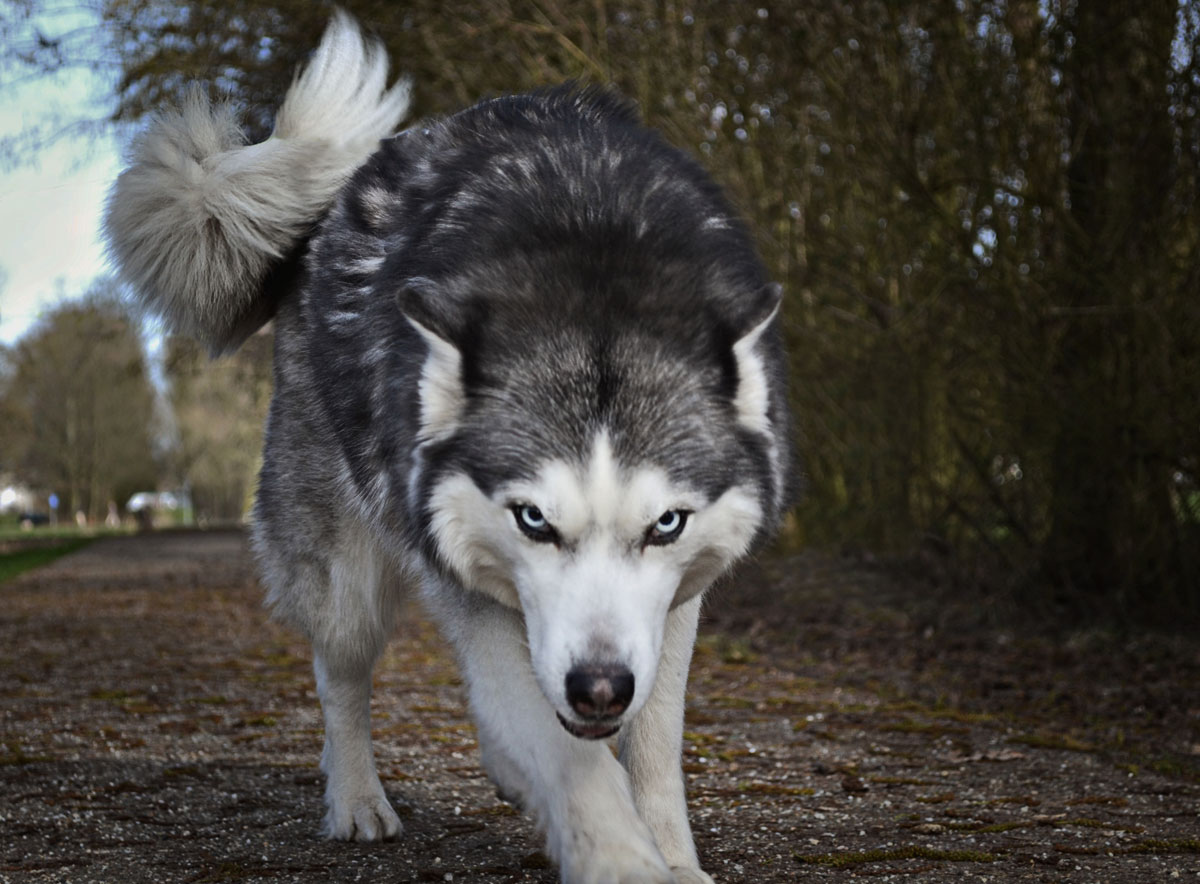husky: (215, 58, 846, 839)
